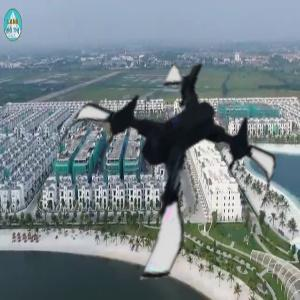drone: (54, 54, 282, 282)
